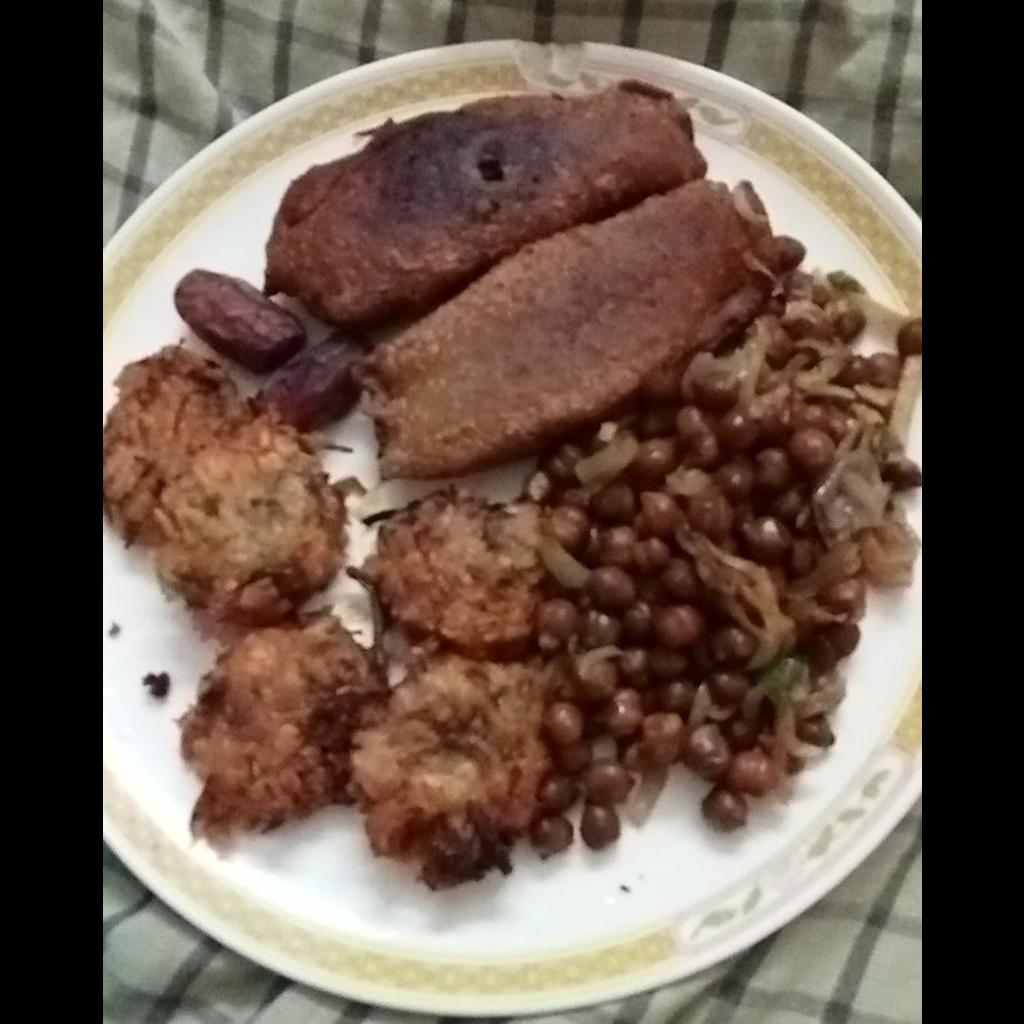beguni: (256, 85, 792, 474)
chola: (547, 276, 916, 843)
dates: (169, 262, 360, 434)
peyaju: (105, 352, 540, 869)
